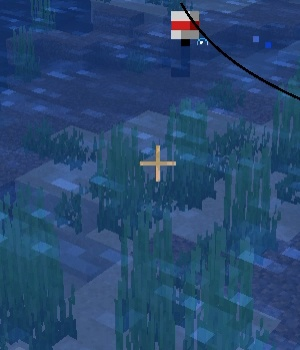up: (165, 2, 207, 76)
